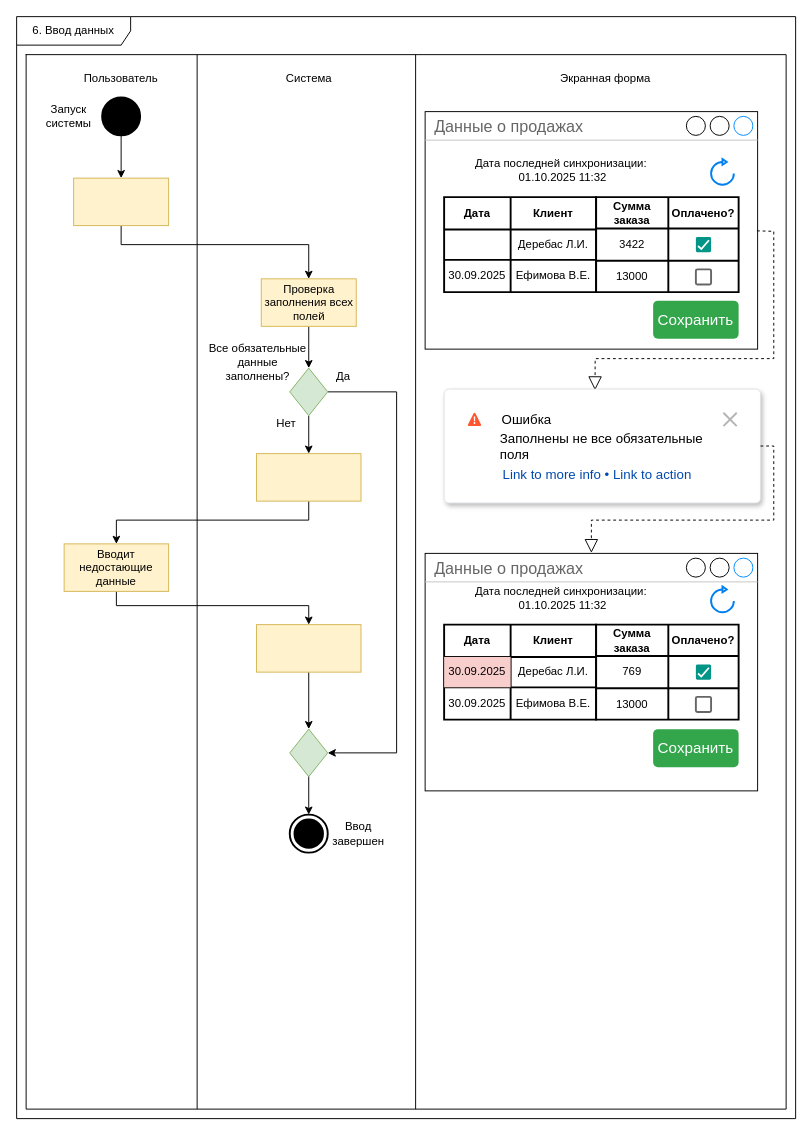
The diagram is 812 pixels wide and 1135 high, and some of its shapes have lost their labels. Each missing label, with the centre of its shape:
"Ввод данных" belongs at point 121,201.
"Применяет изменения" belongs at point 308,648.
"Уведомляет о незаполненности" belongs at point 308,477.
